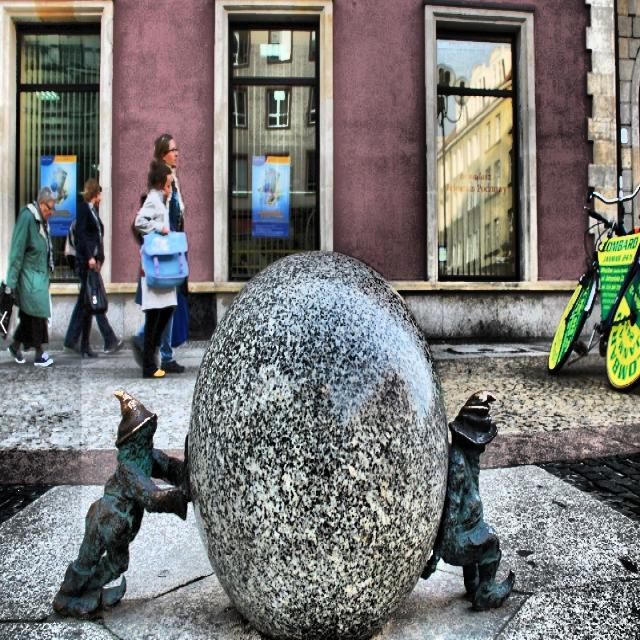Syzyfki: (35, 236, 526, 640)
